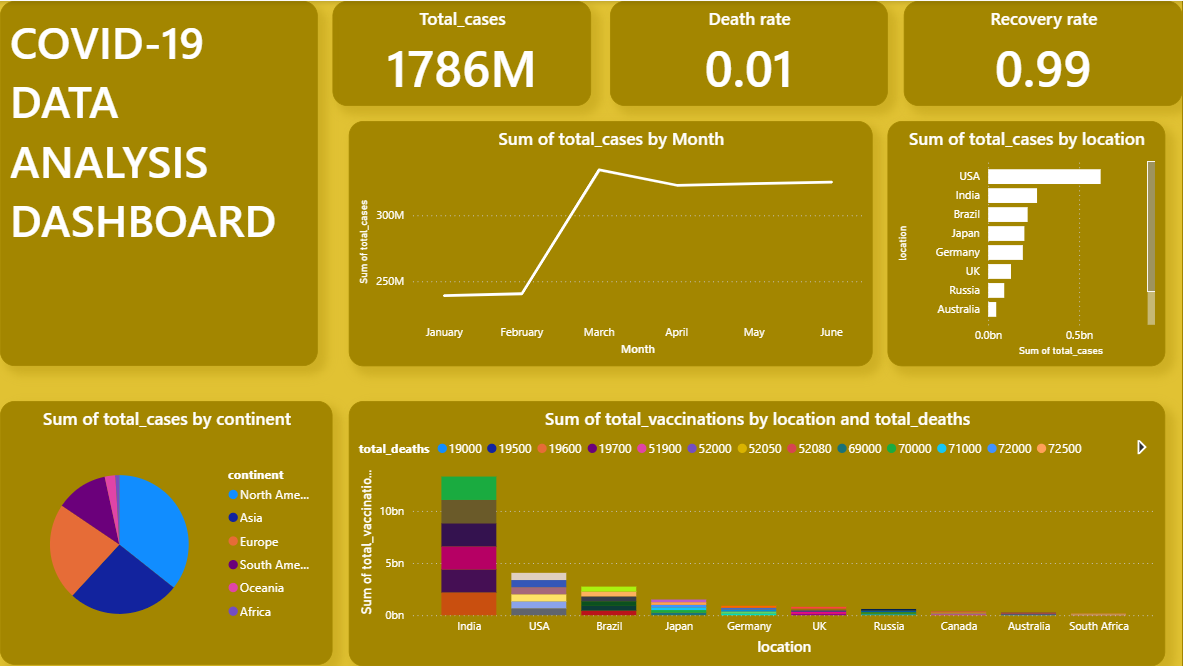

What the dashboard file says about the page in this screenshot:
{"tool":"powerbi","page":{"name":"Page 1","canvas":[1280,720],"ordinal":0},"visuals":[{"type":"card","title":"Total_cases","fields":{"Values":["Sum(COVID.total_cases)"]},"box":[359.5,0,279.9,113.9],"z":0},{"type":"card","title":"Death rate","fields":{"Values":["COVID.Death Rate"]},"box":[660,0,300.5,113.9],"z":1000},{"type":"card","title":"Recovery rate","fields":{"Values":["COVID.Recovery Rate"]},"box":[978.4,0,301.9,113.9],"z":2000},{"type":"lineChart","fields":{"Y":["Sum(COVID.total_cases)"],"Category":["COVID.date.Variation.Date Hierarchy.Month"]},"box":[377.6,129.9,567.1,265.3],"z":3000},{"type":"clusteredBarChart","fields":{"Category":["COVID.location"],"Y":["Sum(COVID.total_cases)"]},"box":[960.9,129.9,300.4,265.3],"z":4000},{"type":"pieChart","fields":{"Category":["COVID.continent"],"Y":["Sum(COVID.total_cases)"]},"box":[0,433.1,360,285.6],"z":5000},{"type":"columnChart","fields":{"Category":["COVID.location"],"Y":["Sum(COVID.total_vaccinations)"],"Series":["COVID.total_deaths"]},"box":[377.6,433.1,883.7,286.9],"z":6000},{"type":"textbox","box":[0,0,343.8,395.2],"z":7000}]}

Visuals, with their boxes in screenshot pixels (x1, y1, x2, y2), scaled from the page's 1280x720 canvas onto the 1183x666 screenshot:
"Total_cases" card: <box>332,0,591,105</box>
"Death rate" card: <box>610,0,888,105</box>
"Recovery rate" card: <box>904,0,1182,105</box>
lineChart - Sum(COVID.total_cases) x COVID.date.Variation.Date Hierarchy.Month: <box>349,120,873,366</box>
clusteredBarChart - COVID.location x Sum(COVID.total_cases): <box>888,120,1166,366</box>
pieChart - COVID.continent x Sum(COVID.total_cases): <box>0,401,333,665</box>
columnChart - COVID.location x Sum(COVID.total_vaccinations): <box>349,401,1166,665</box>
textbox: <box>0,0,318,366</box>
